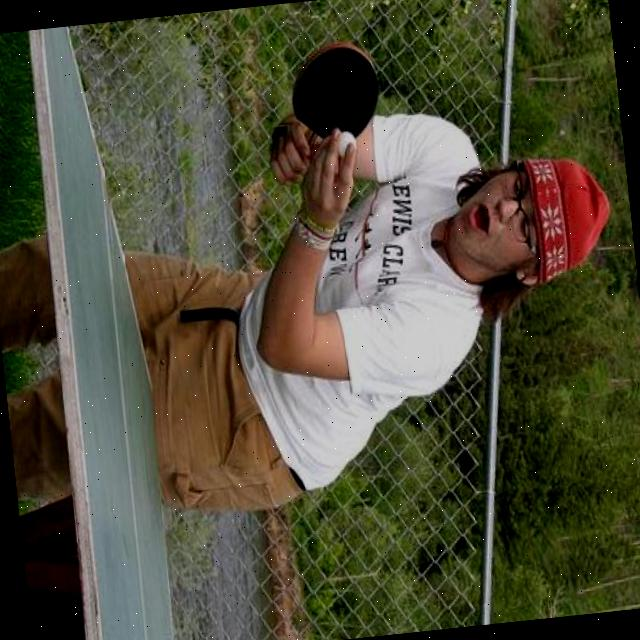ping-pong-ball: (332, 128, 358, 160)
